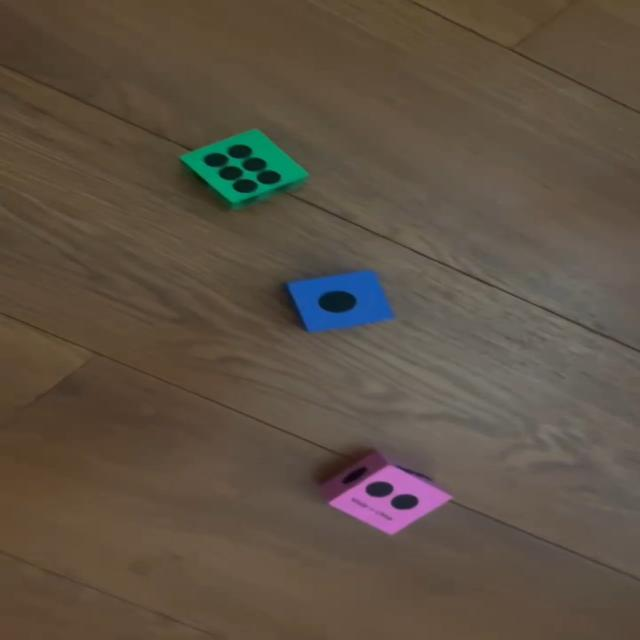blue_block: (286, 269, 394, 332)
